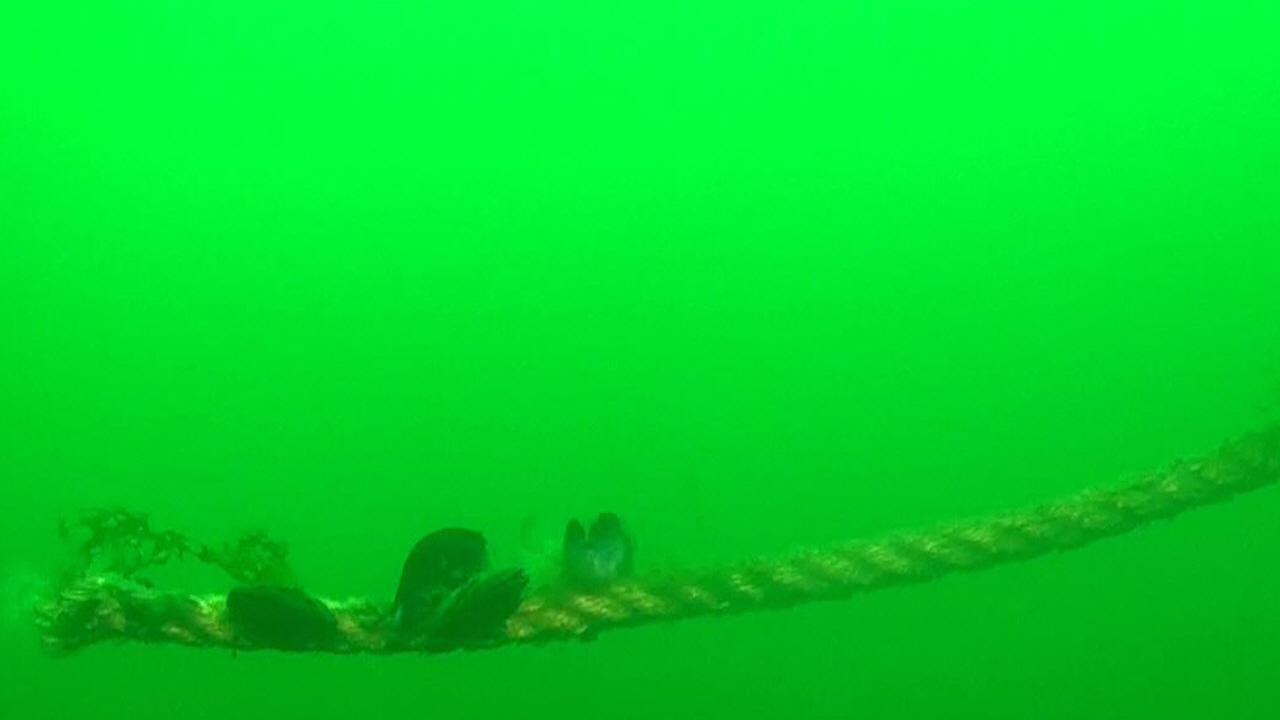rope: (95, 419, 1280, 652)
